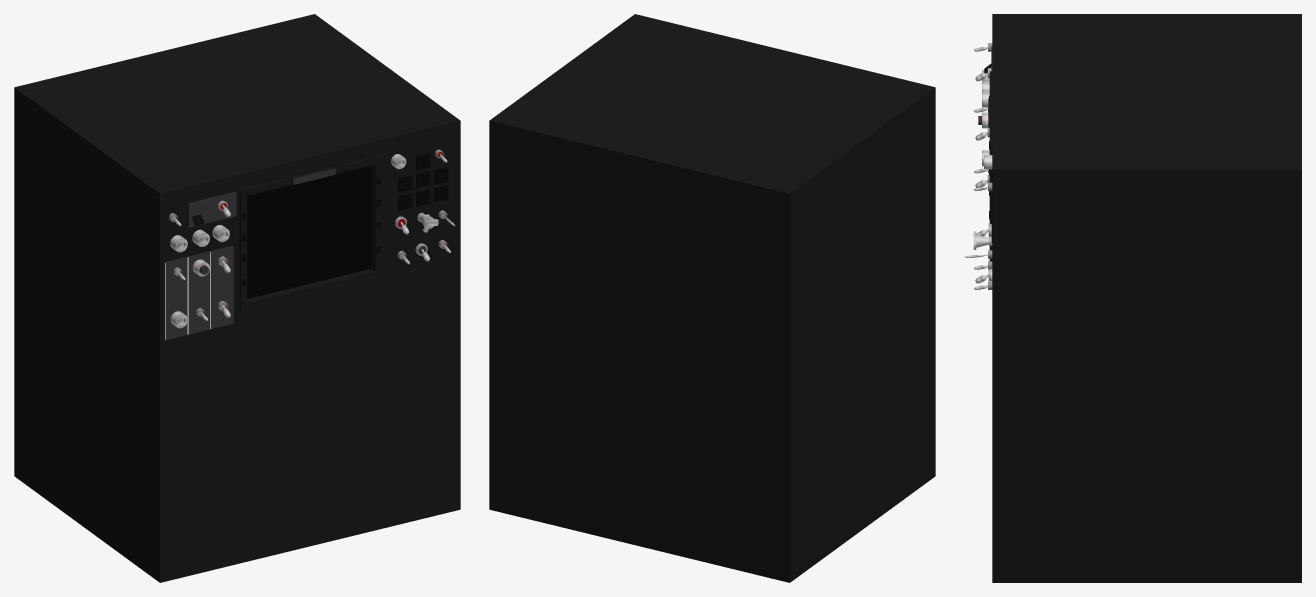
Rendered from 조종석3(05-26).FBX.
The picture shows the model from 3 angles, left to right: view 1: azimuth 30°, elevation 25°; view 2: azimuth 150°, elevation 25°; view 3: azimuth 270°, elevation 25°; orthographic projection. The views are drawn at different scales.
Parts seen in each view (by area): view 1: Box001; view 2: Box001; view 3: Box001.
Boxes of the visible parts, x1,y1,x2,y2 form: Box001: (14,14,460,582); Box001: (489,14,935,582); Box001: (964,14,1301,582).
Size of the model in its own units: 238 by 295 by 218.
